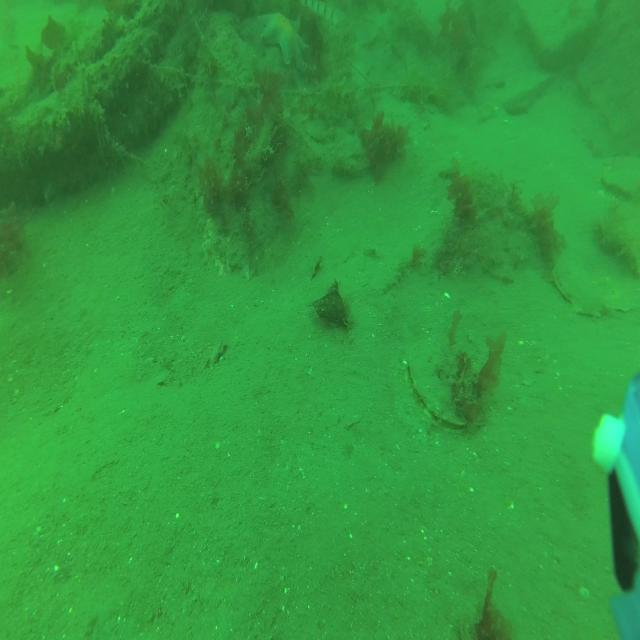starfish: (259, 15, 310, 72)
